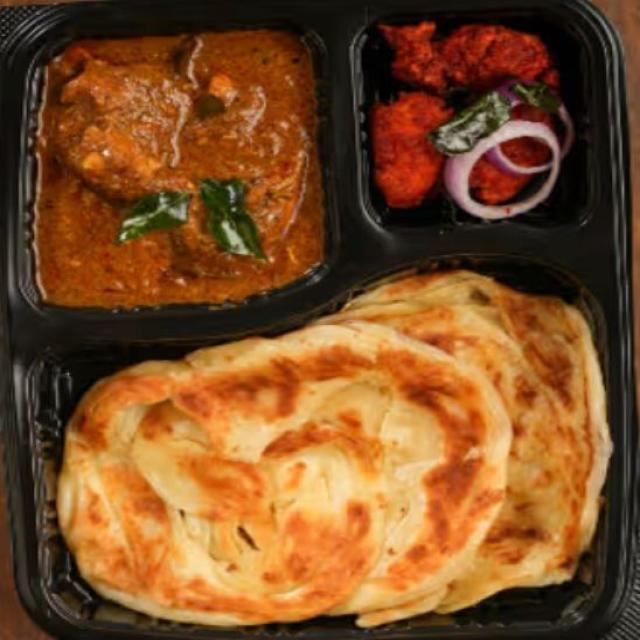KURMA: (40, 37, 322, 302)
SAMBAR: (59, 267, 610, 630)
